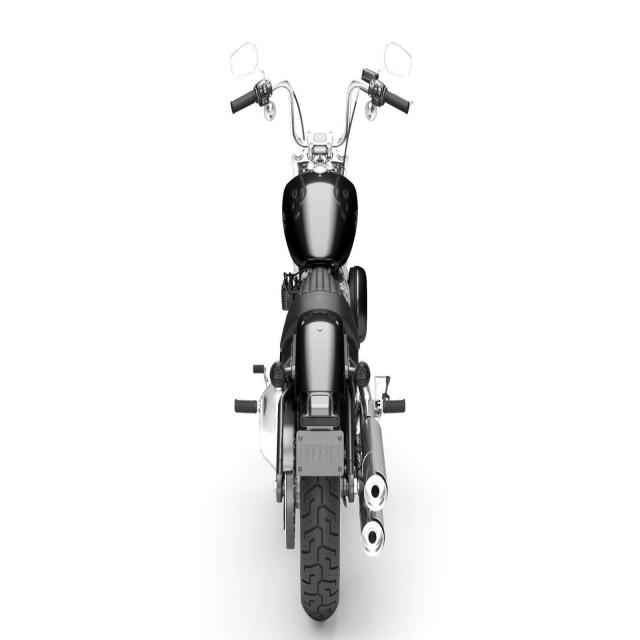Motorcycle: (231, 67, 410, 621)
